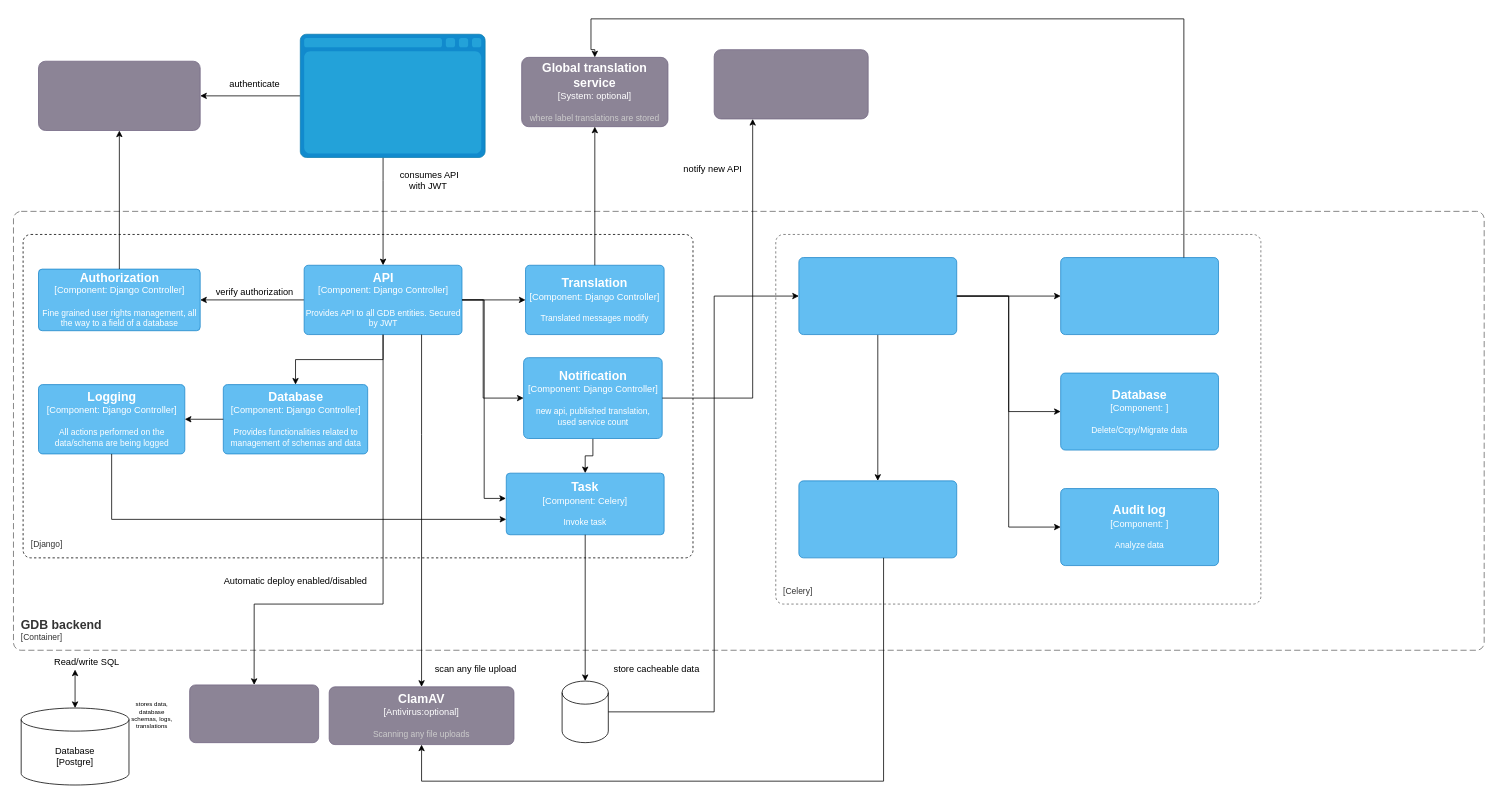
Image size: 1498x801. Some labels were removed from this diagram. Here are the shapes that lost their labels. From the top down, the centre of each, then its label:
At point (119, 95): "Keycloak [Authentication] OpenId Connect server".
At point (392, 95): "Single Page Application [GDB: react] Handles the GUI of the application".
At point (790, 84): "ActiveMQ [message queue:optional]".
At point (877, 296): "Task [Component: ] Takes care of tasks in the app: triggers, data import/export".
At point (1139, 296): "Translation [Component: ] Pull global translations".
At point (877, 519): "Synchronize [Component: ] Trigger/Export/Import data".
At point (254, 713): "Restheart [REST API:optional]".
At point (584, 711): "Redis".
